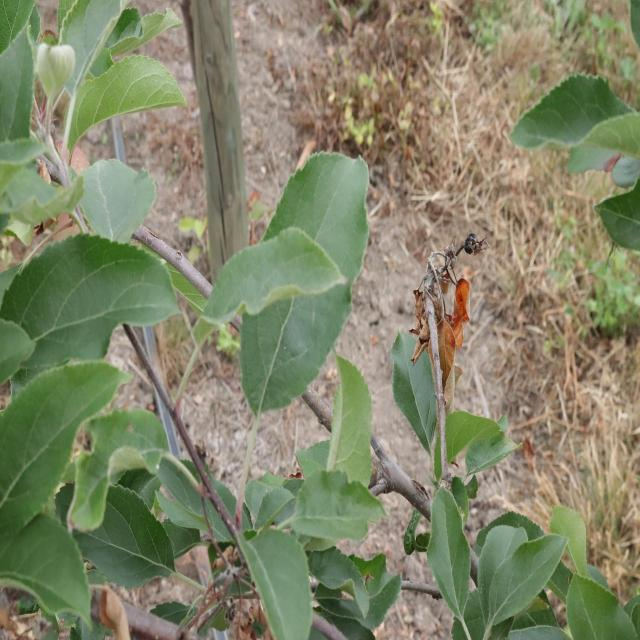-FireBlight-: (404, 250, 478, 430), (187, 537, 279, 640), (100, 587, 134, 640)
